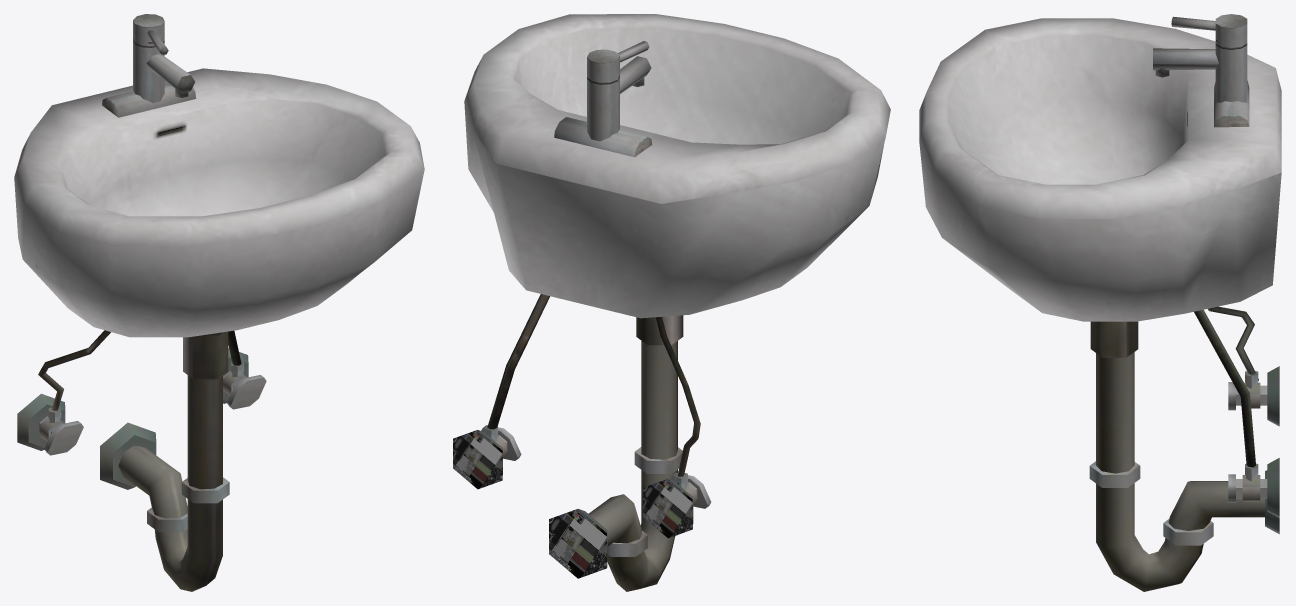
File: Bath_SInk.fbx
The picture shows the model from 3 angles, left to right: view 1: azimuth 30°, elevation 25°; view 2: azimuth 150°, elevation 25°; view 3: azimuth 270°, elevation 25°; orthographic projection. The views are drawn at different scales.
Visible parts, largest first — view 1: Bath_SInk; view 2: Bath_SInk; view 3: Bath_SInk.
Part boxes in pixels (x1=…): Bath_SInk: x1=14, y1=14, x2=424, y2=591; Bath_SInk: x1=453, y1=14, x2=890, y2=591; Bath_SInk: x1=919, y1=14, x2=1281, y2=591.
Size of the model in its own units: 0.8318 by 1.19 by 0.6864.
